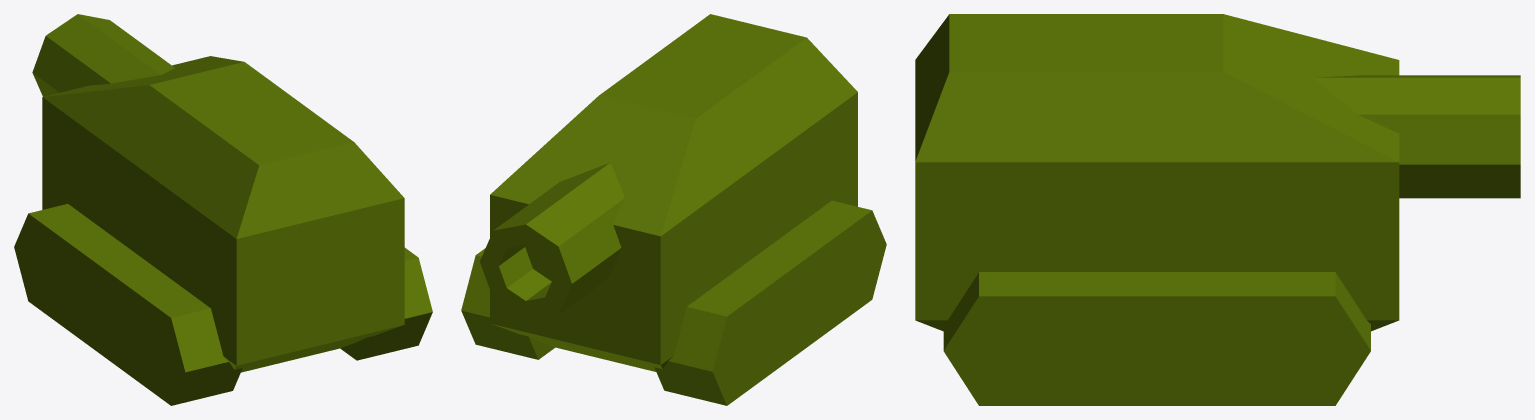
File: Tank.fbx
3 renders of one model, left to right at view 1: azimuth 30°, elevation 25°; view 2: azimuth 150°, elevation 25°; view 3: azimuth 270°, elevation 25°, orthographic. The views are drawn at different scales.
Visible parts, largest first — view 1: Tank; view 2: Tank; view 3: Tank.
Boxes of the visible parts, x1,y1,x2,y2 form: Tank: (14,14,432,405); Tank: (461,14,886,405); Tank: (915,14,1520,405).
Bounding box in the file's own units: 589 × 525 × 1001.
